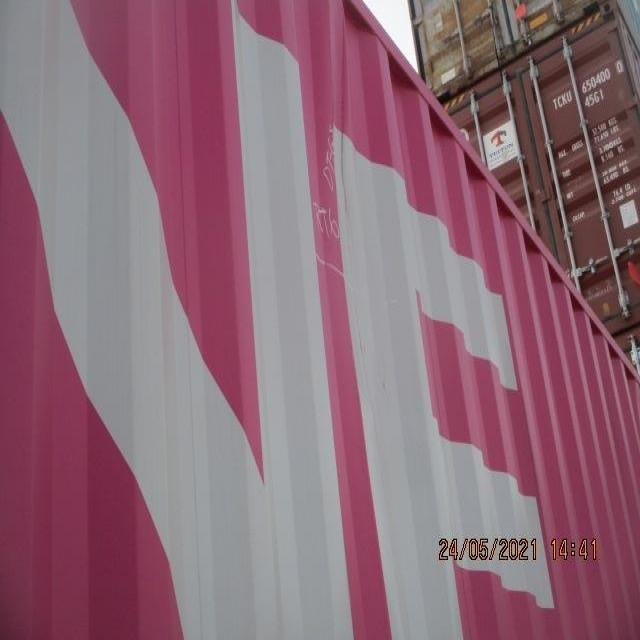Minor-Dent: (278, 44, 422, 336)
